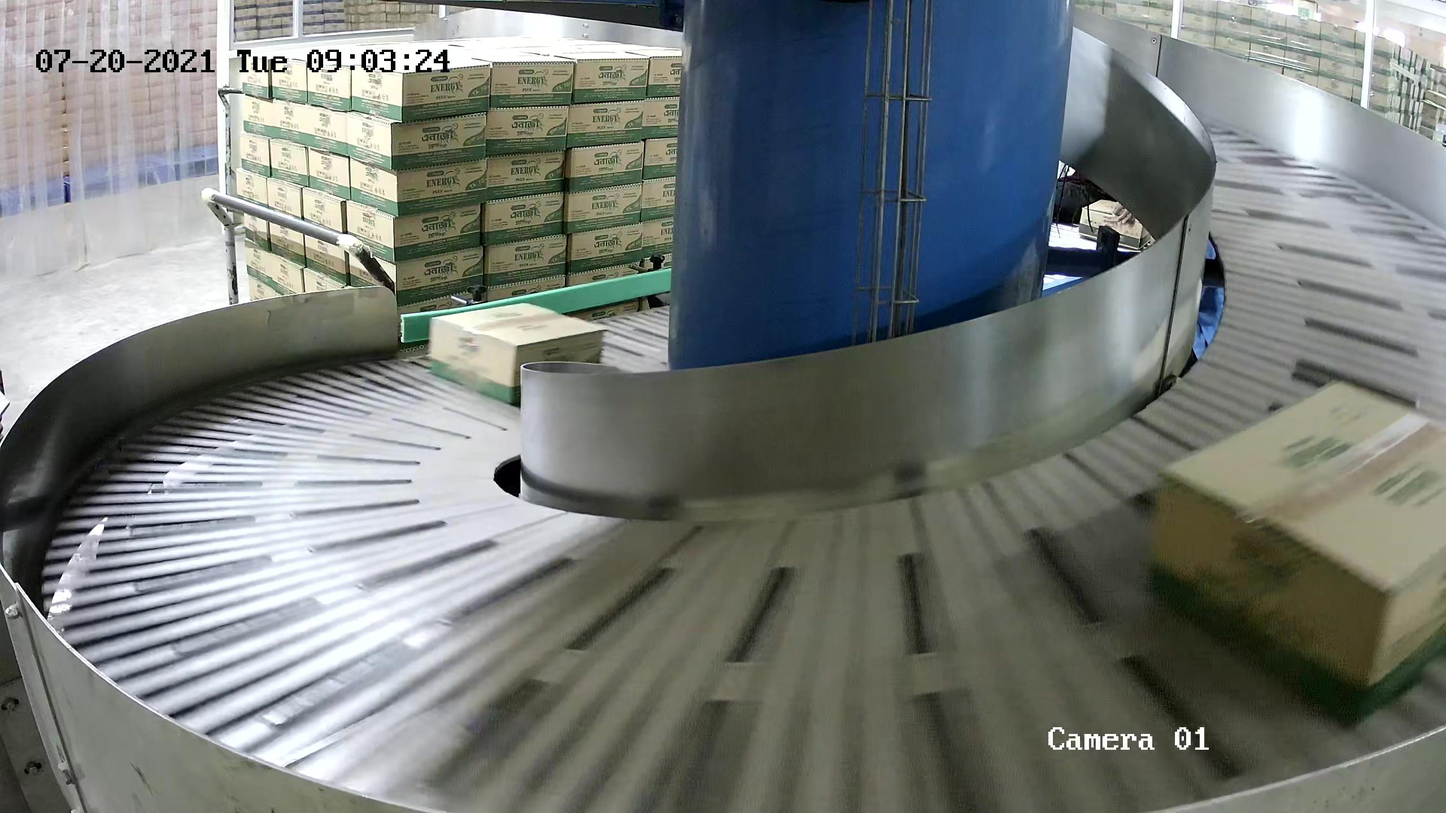Box: (1149, 374, 1446, 731), (428, 299, 609, 410)
